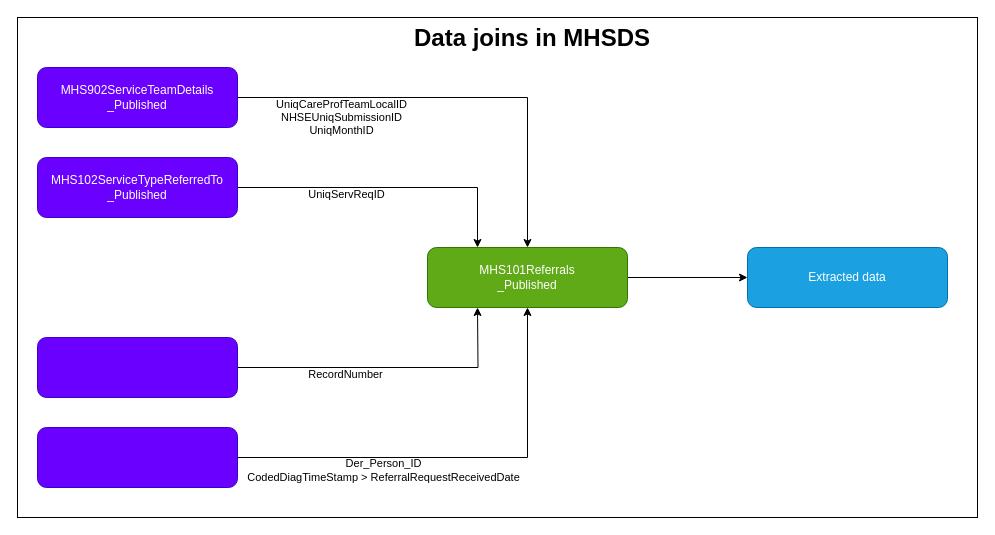
Some shapes in this 995 by 535 pixel diagram are drawn without their labels. The shapes that lost their labels are listed below. From the top down, each one's centre as x and y in pixels, then its label:
point (137, 367): MHS001MPI _Published
point (137, 457): MHS604PrimDiag _Published
